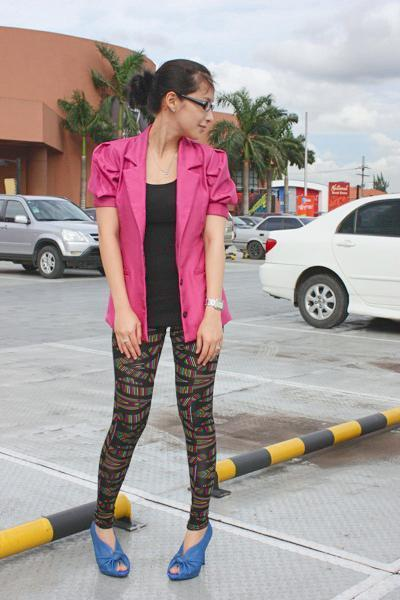jacket: (88, 126, 240, 347)
pants: (95, 315, 227, 531)
shirt: (143, 180, 183, 337)
shoe: (93, 522, 211, 581)
